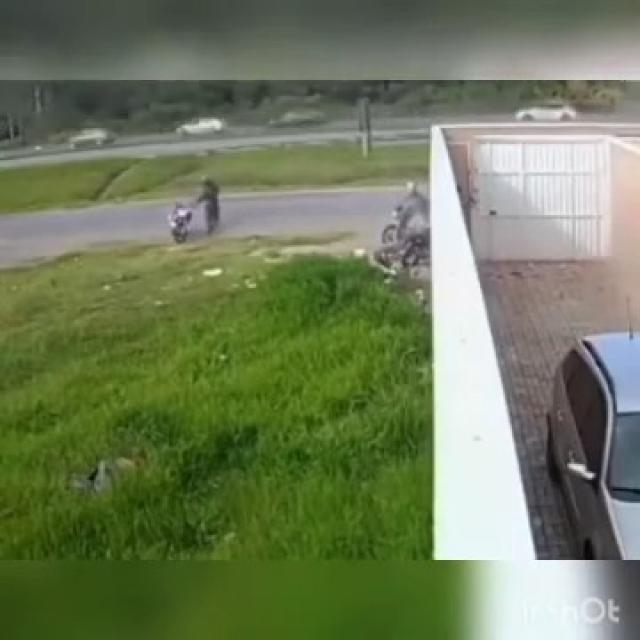accident: (361, 230, 445, 276)
